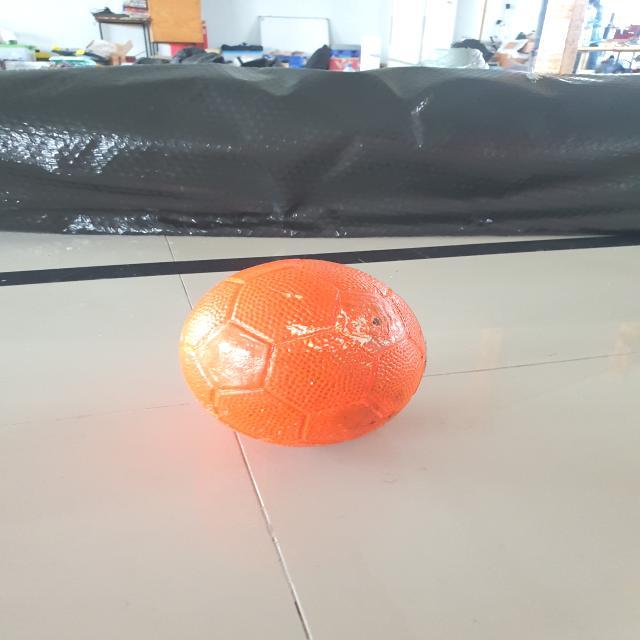bola: (137, 248, 454, 446)
